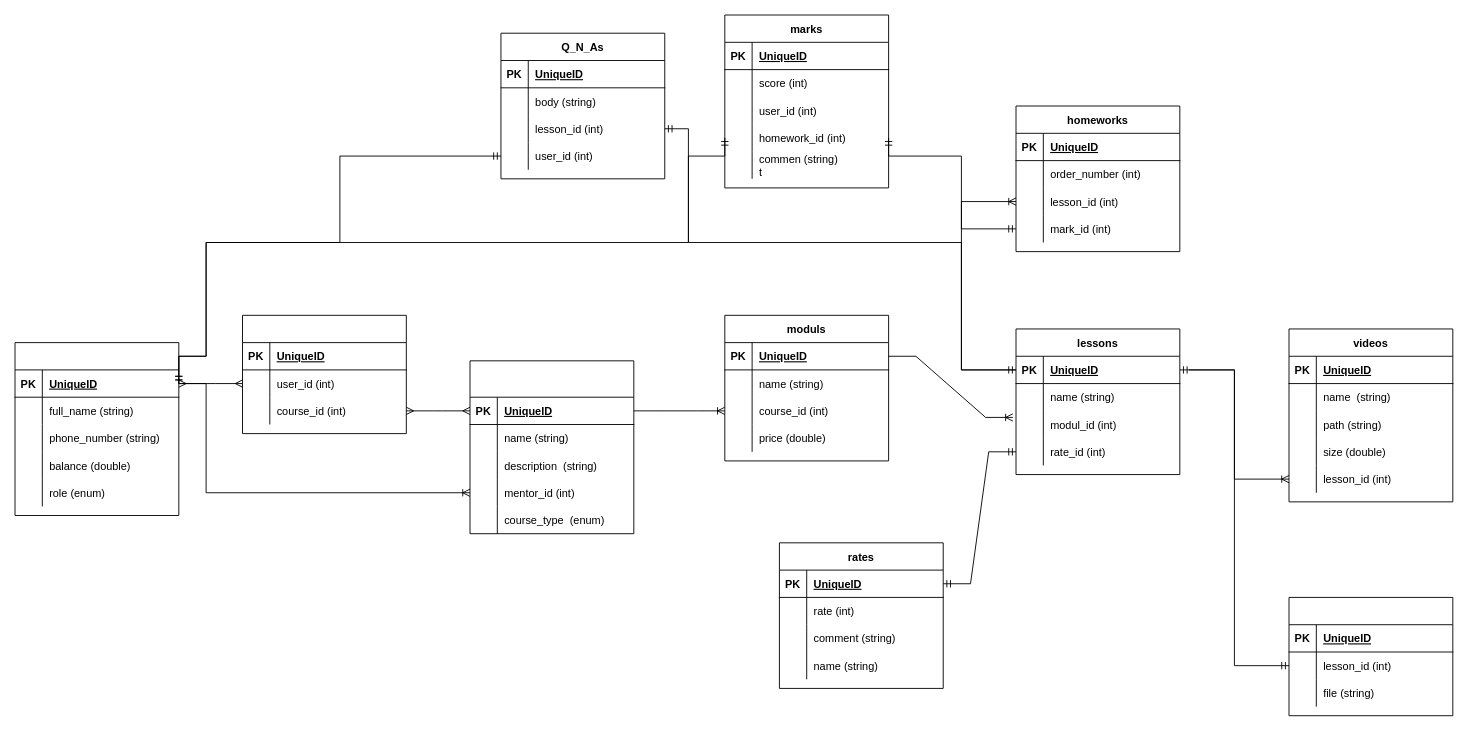
Image size: 1468x731. Some labels were removed from this diagram. Each missing label, with the box of its shape:
courses: (469, 360, 634, 534)
presentations: (1288, 597, 1453, 716)
users: (14, 342, 179, 516)
users_courses: (242, 314, 406, 434)
